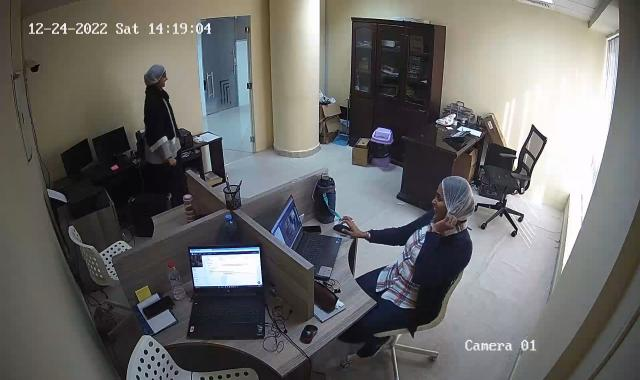hairnet: (439, 175, 474, 220), (143, 63, 167, 89)
